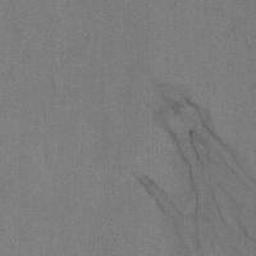Water spot: (129, 81, 256, 256)
